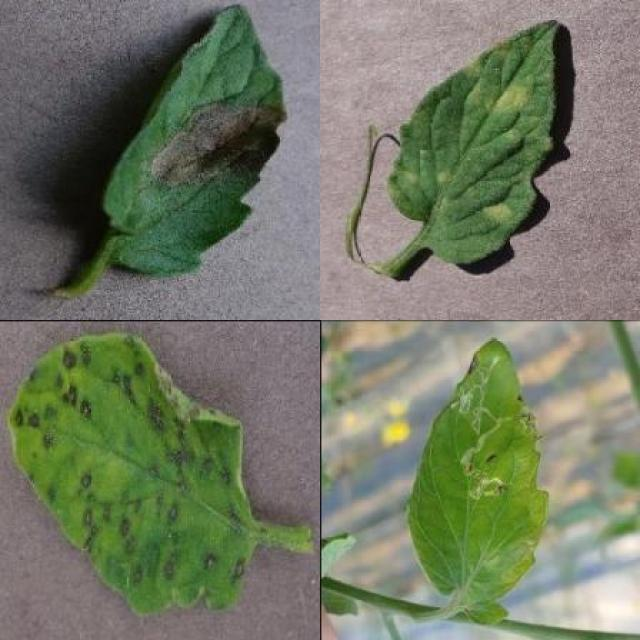Late Blight: (102, 3, 288, 280)
Leaf Miner: (406, 338, 548, 625)
Leaf Mold: (388, 18, 561, 262)
Septoria: (7, 332, 256, 615)
